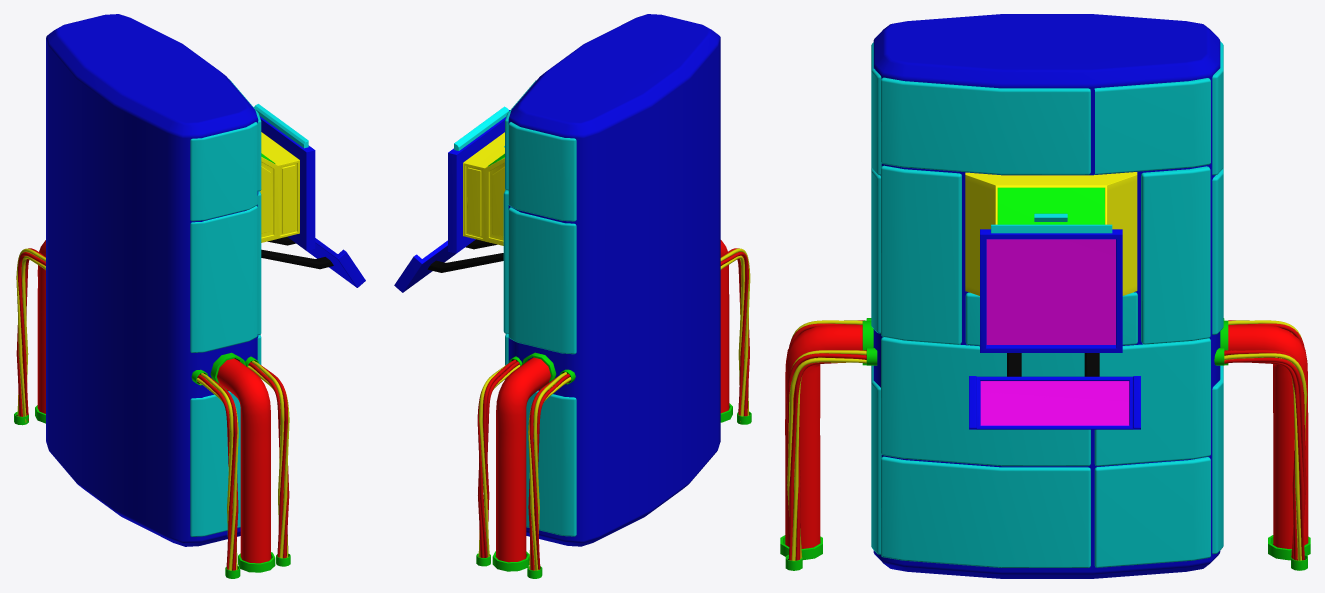
File: Boiler_Room_Computer.fbx
3 renders of one model, left to right at view 1: azimuth 30°, elevation 25°; view 2: azimuth 150°, elevation 25°; view 3: azimuth 270°, elevation 25°, orthographic. The views are drawn at different scales.
Visible parts, largest first — view 1: Boiler_Room_Computer; view 2: Boiler_Room_Computer; view 3: Boiler_Room_Computer.
Boxes of the visible parts, x1,y1,x2,y2 form: Boiler_Room_Computer: (14,14,365,578); Boiler_Room_Computer: (394,14,751,578); Boiler_Room_Computer: (780,14,1310,578).
Size of the model in its own units: 142 by 241 by 228.
